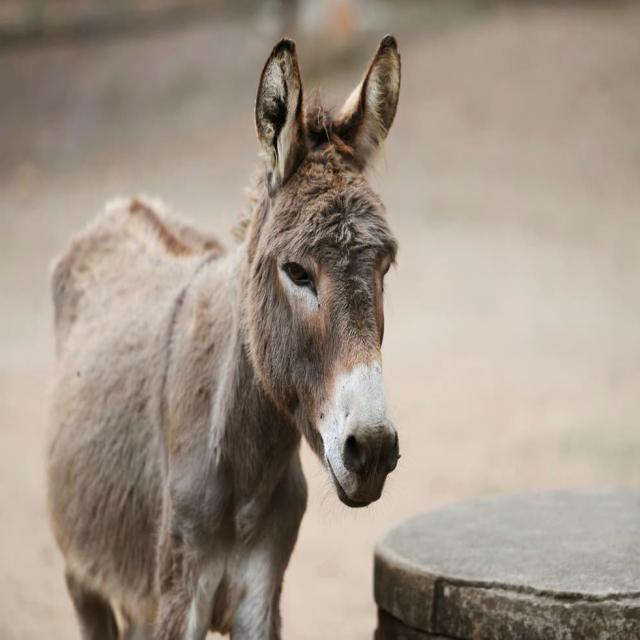donkey: (48, 35, 401, 639)
